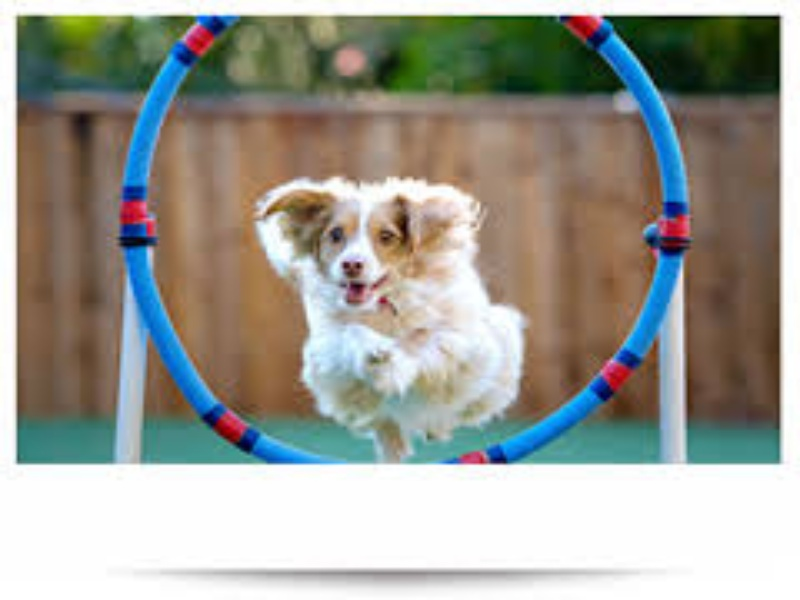dog: (237, 173, 549, 432)
